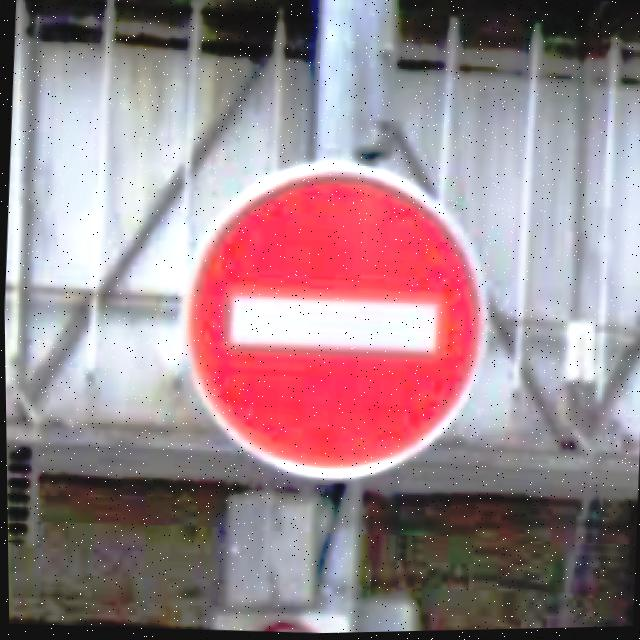noentry: (168, 147, 499, 496)
